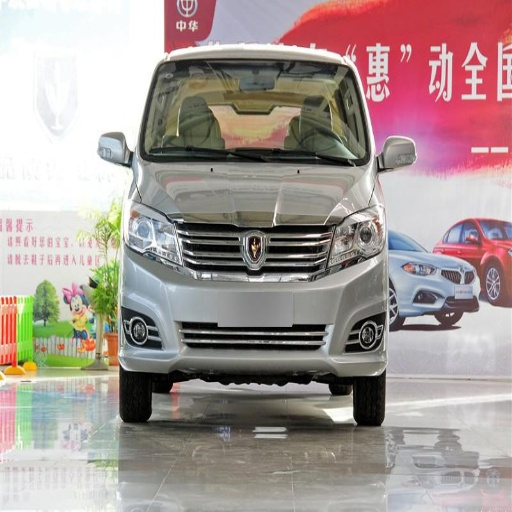front_bumper: (119, 225, 388, 369)
front_right_light: (124, 198, 178, 264)
hood: (138, 160, 373, 271)
left_mirror: (379, 136, 416, 172)
